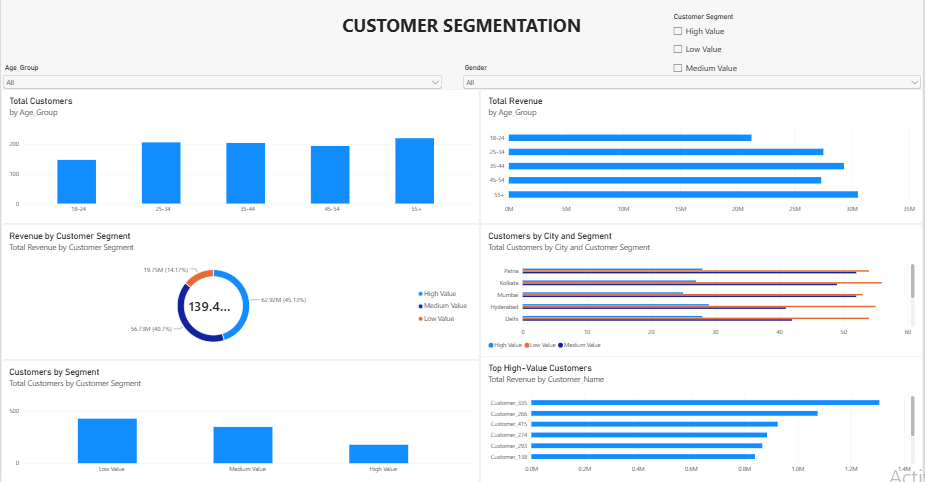

The dashboard page shown, as its layout file describes it:
{"tool":"powerbi","page":{"name":"Customer Segmentation","canvas":[1920,1080],"ordinal":1},"visuals":[{"type":"clusteredColumnChart","fields":{"Category":["clean_sales Week 2.Age_Group"],"Y":["clean_sales Week 2.Total Customers"]},"box":[0,259.4,997.1,280.6],"z":0},{"type":"clusteredBarChart","fields":{"Category":["clean_sales Week 2.Age_Group"],"Y":["clean_sales Week 2.Total Revenue"]},"box":[997.1,259.4,922.7,280.6],"z":1000},{"type":"clusteredBarChart","title":"Customers by City and Segment","fields":{"Category":["clean_sales Week 2.City"],"Series":["clean_sales Week 2.Customer Segment"],"Y":["clean_sales Week 2.Total Customers"]},"box":[997.1,540,922.7,282.8],"z":2000},{"type":"slicer","fields":{"Values":["clean_sales Week 2.Age_Group"]},"box":[0,206.2,922.7,78.7],"z":3000},{"type":"slicer","fields":{"Values":["clean_sales Week 2.Gender"]},"box":[958.3,206.2,963.1,78.7],"z":4000},{"type":"clusteredBarChart","title":"Top High-Value Customers","fields":{"Category":["clean_sales Week 2.Customer_Name"],"Y":["clean_sales Week 2.Total Revenue"]},"box":[997.1,814.3,922.7,265.7],"z":5000},{"type":"textbox","box":[0,100,1918.8,66.7],"z":6000},{"type":"donutChart","title":"Revenue by Customer Segment","fields":{"Category":["clean_sales Week 2.Customer Segment"],"Y":["clean_sales Week 2.Total Revenue"]},"box":[0,540,997,283],"z":7000},{"type":"clusteredColumnChart","title":"Customers by Segment","fields":{"Category":["clean_sales Week 2.Customer Segment"],"Y":["clean_sales Week 2.Total Customers"]},"box":[0,823,997,257],"z":8000},{"type":"slicer","fields":{"Values":["clean_sales Week 2.Customer Segment"]},"box":[1393.8,100,300,145.8],"z":8001}]}

Visuals, with their boxes on the page's 1920x1080 design canvas (x1, y1, x2, y2). These are canvas units, not pixel positions in the 925x482 screenshot, which may show the page scaled, cropped or inside an application window:
clusteredColumnChart - clean_sales Week 2.Age_Group x clean_sales Week 2.Total Customers: 0:259:997:540
clusteredBarChart - clean_sales Week 2.Age_Group x clean_sales Week 2.Total Revenue: 997:259:1920:540
"Customers by City and Segment" clusteredBarChart: 997:540:1920:823
slicer - clean_sales Week 2.Age_Group: 0:206:923:285
slicer - clean_sales Week 2.Gender: 958:206:1921:285
"Top High-Value Customers" clusteredBarChart: 997:814:1920:1080
textbox: 0:100:1919:167
"Revenue by Customer Segment" donutChart: 0:540:997:823
"Customers by Segment" clusteredColumnChart: 0:823:997:1080
slicer - clean_sales Week 2.Customer Segment: 1394:100:1694:246
